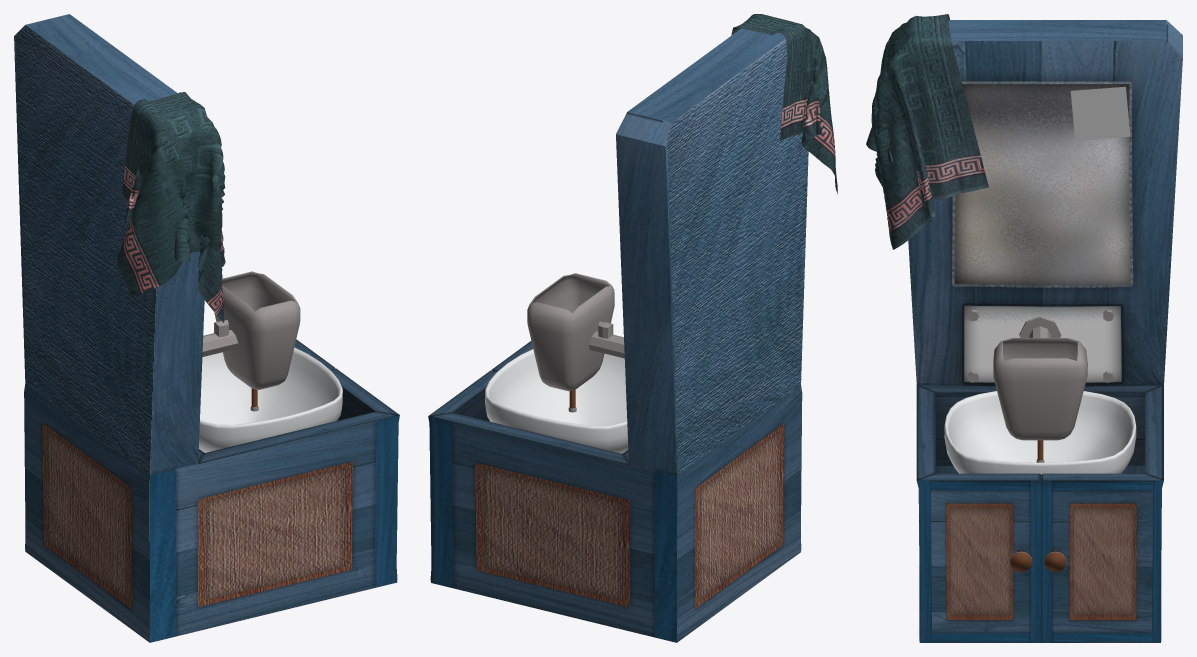
Rendered from WashstandReal.fbx.
3 renders of one model, left to right at view 1: azimuth 30°, elevation 25°; view 2: azimuth 150°, elevation 25°; view 3: azimuth 270°, elevation 25°, orthographic. The views are drawn at different scales.
Parts seen in each view (by area): view 1: moika, Плоскость.002, Плоскость.001, bachok, tors; view 2: moika, Плоскость.001, bachok, Плоскость.002, tors; view 3: moika, Плоскость.002, Плоскость.001, bachok, Плоскость.003, ruchka, tors.
Part boxes in pixels (left/top/right/bottom): moika: left=14, top=14, right=399, bottom=642; Плоскость.002: left=117, top=92, right=225, bottom=322; Плоскость.001: left=198, top=347, right=342, bottom=452; bachok: left=214, top=271, right=300, bottom=389; tors: left=202, top=320, right=238, bottom=356; moika: left=428, top=28, right=808, bottom=642; Плоскость.001: left=485, top=349, right=628, bottom=453; bachok: left=527, top=273, right=614, bottom=391; Плоскость.002: left=731, top=14, right=837, bottom=194; tors: left=589, top=321, right=624, bottom=358; moika: left=908, top=20, right=1182, bottom=642; Плоскость.002: left=866, top=14, right=988, bottom=249; Плоскость.001: left=944, top=391, right=1136, bottom=474; bachok: left=993, top=338, right=1087, bottom=440; Плоскость.003: left=1070, top=86, right=1130, bottom=140; ruchka: left=1010, top=550, right=1066, bottom=571; tors: left=1019, top=316, right=1061, bottom=337.
Bounding box in the file's own units: 347 × 595 × 333.
